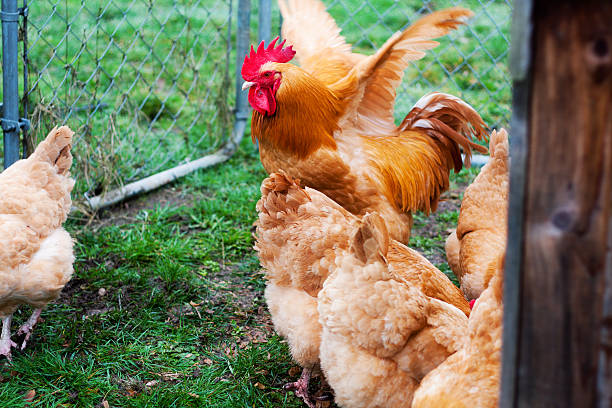buff: (227, 43, 379, 176)
